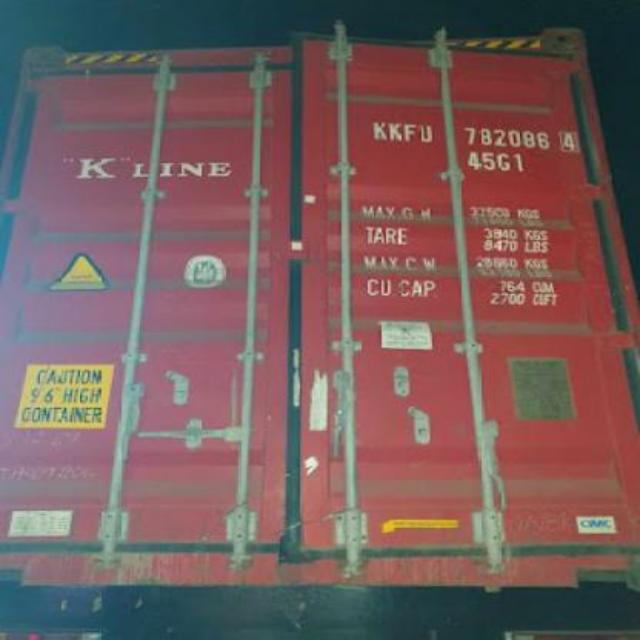0: (508, 122, 522, 152)
2: (494, 126, 506, 150)
4: (554, 124, 580, 154)
6: (536, 122, 552, 152)
7: (462, 122, 478, 146)
8: (476, 118, 494, 146), (522, 126, 536, 150)
F: (404, 115, 420, 151)
K: (391, 118, 404, 144), (372, 114, 386, 138)
U: (421, 118, 442, 150)
